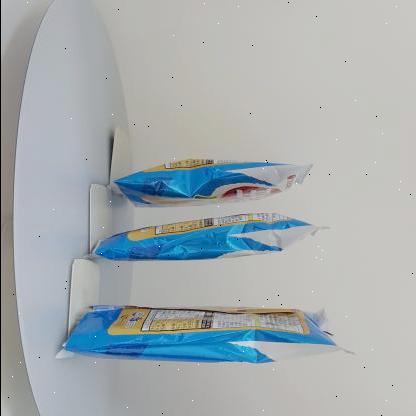Others: (52, 146, 360, 382)
